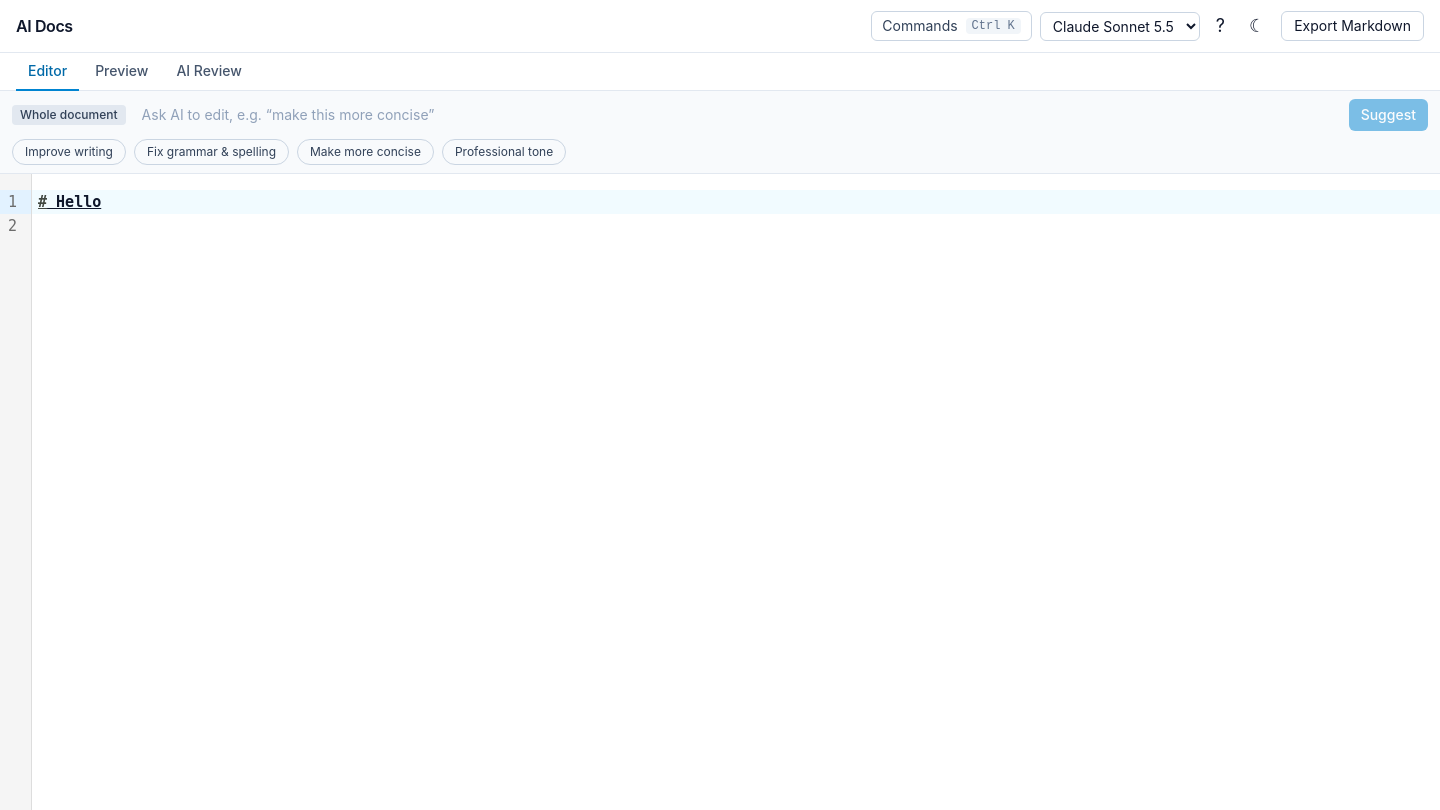
Test case: App version history › shows the suggestion panel and version history in the AI Review tab
This screenshot has width=1440, height=810.
What coordinates should you click on to do the following:
click the tab "AI Review"
I would click on:
 (209, 72)
Its box is [164, 53, 254, 91].
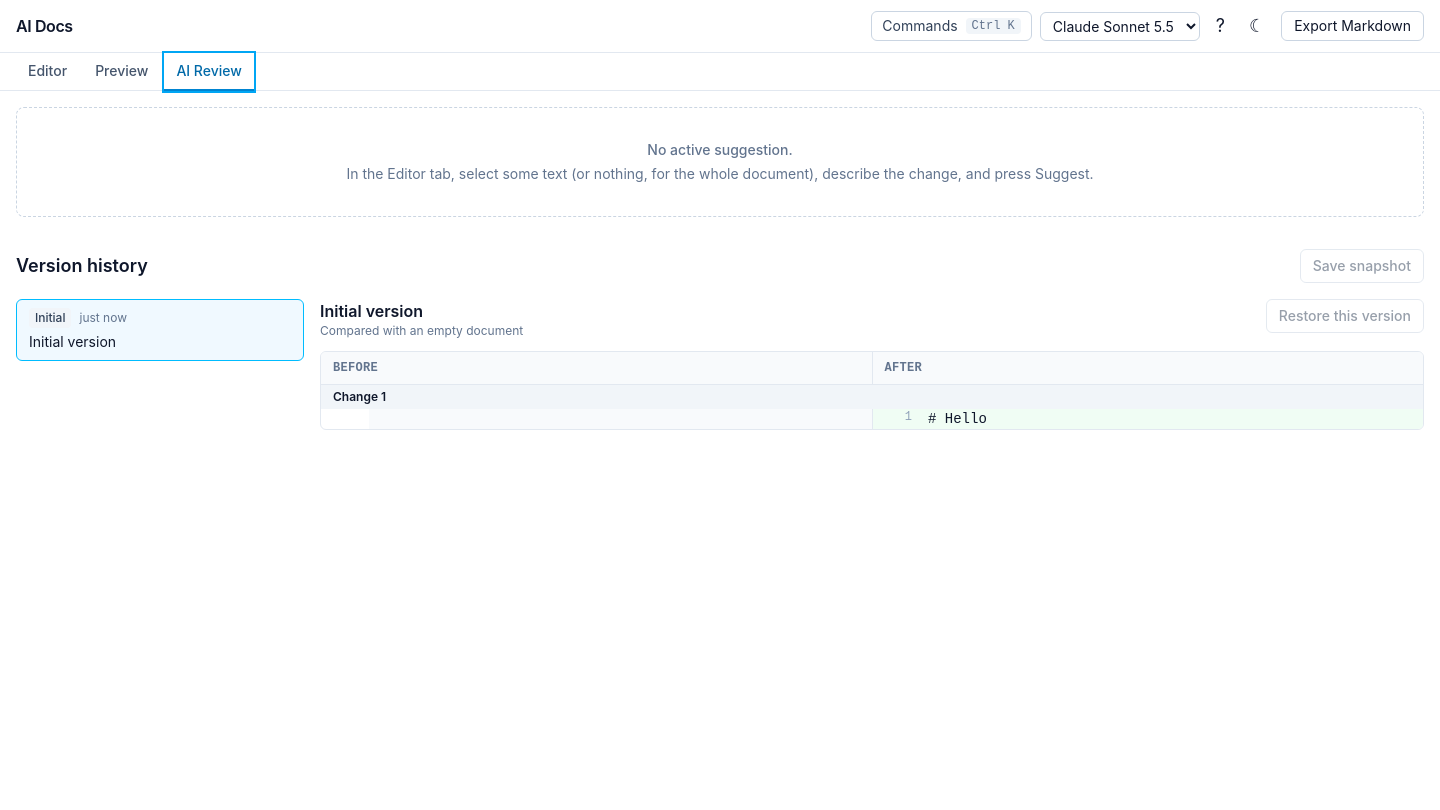
Result: the heading "Version history" is shown at [16, 252, 148, 280]
Result: the text "No active suggestion." is shown at [647, 141, 793, 158]
Result: the heading "Initial version" is shown at [320, 301, 423, 321]
